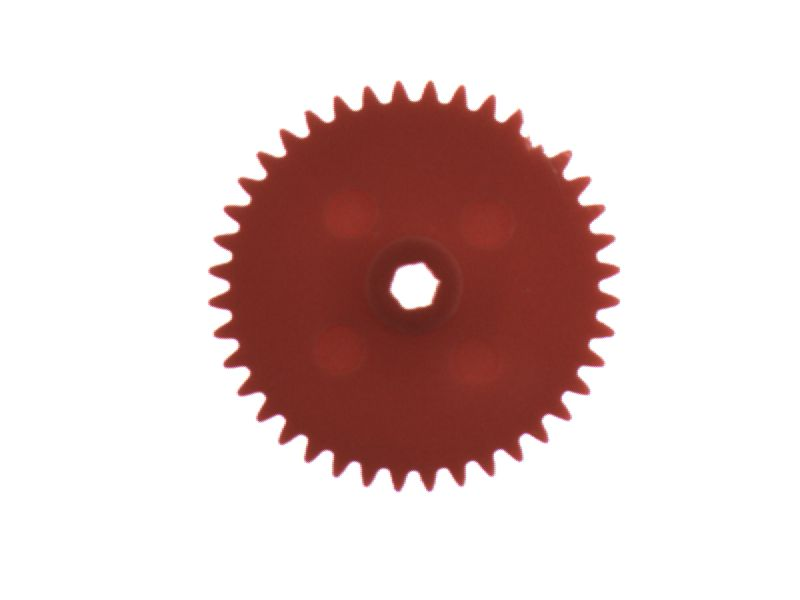defect_lack: (509, 111, 573, 162)
